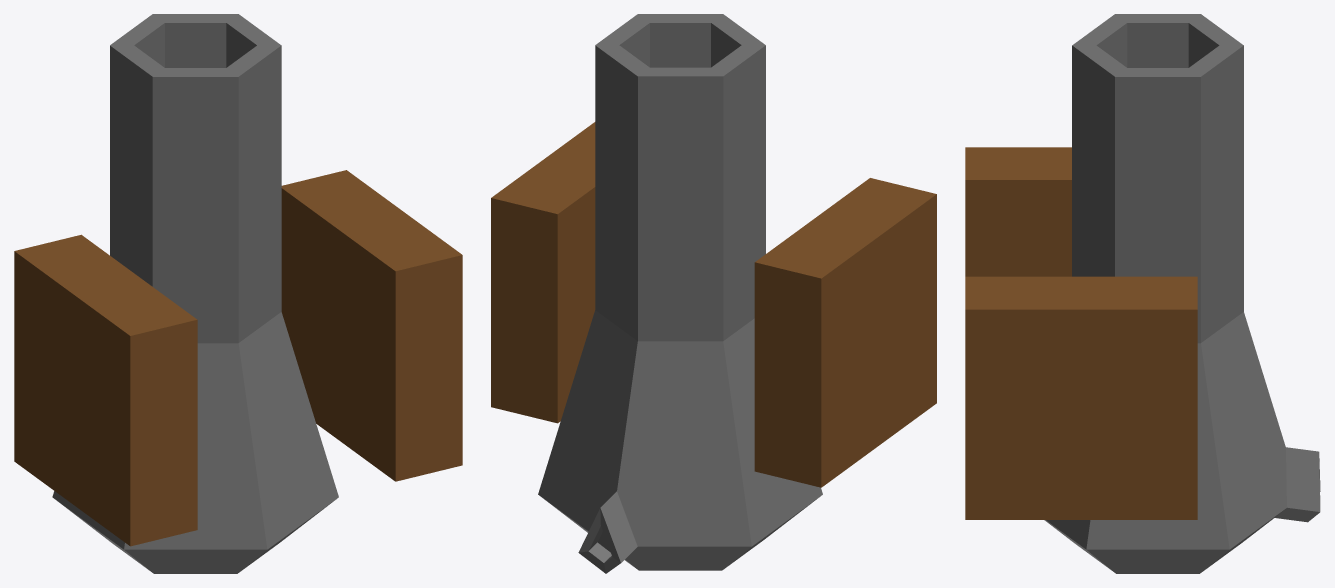
File: cannon.fbx
The picture shows the model from 3 angles, left to right: view 1: azimuth 30°, elevation 25°; view 2: azimuth 150°, elevation 25°; view 3: azimuth 270°, elevation 25°; orthographic projection.
Visible parts, largest first — view 1: Cannon; view 2: Cannon; view 3: Cannon.
Part boxes in pixels (<box>): Cannon: <box>14,14,462,573</box>; Cannon: <box>491,14,936,573</box>; Cannon: <box>965,14,1320,573</box>.
Size of the model in its own units: 223 by 319 by 206.
